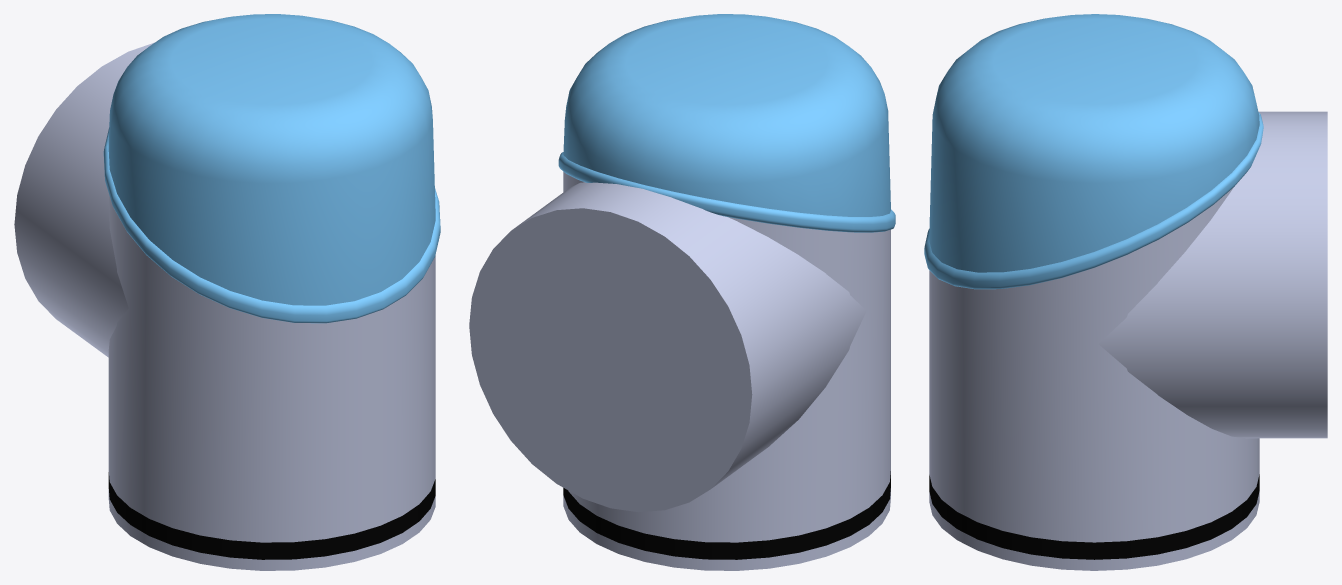
The picture shows the model from 3 angles, left to right: view 1: azimuth 30°, elevation 25°; view 2: azimuth 150°, elevation 25°; view 3: azimuth 270°, elevation 25°; orthographic projection.
Visible parts, largest first — view 1: R4; view 2: R4; view 3: R4.
Part boxes in pixels (left/top/right/bottom): R4: left=14, top=14, right=440, bottom=570; R4: left=469, top=14, right=895, bottom=570; R4: left=924, top=14, right=1327, bottom=570.
Size of the model in its own units: 0.0759 by 0.1092 by 0.0907.
